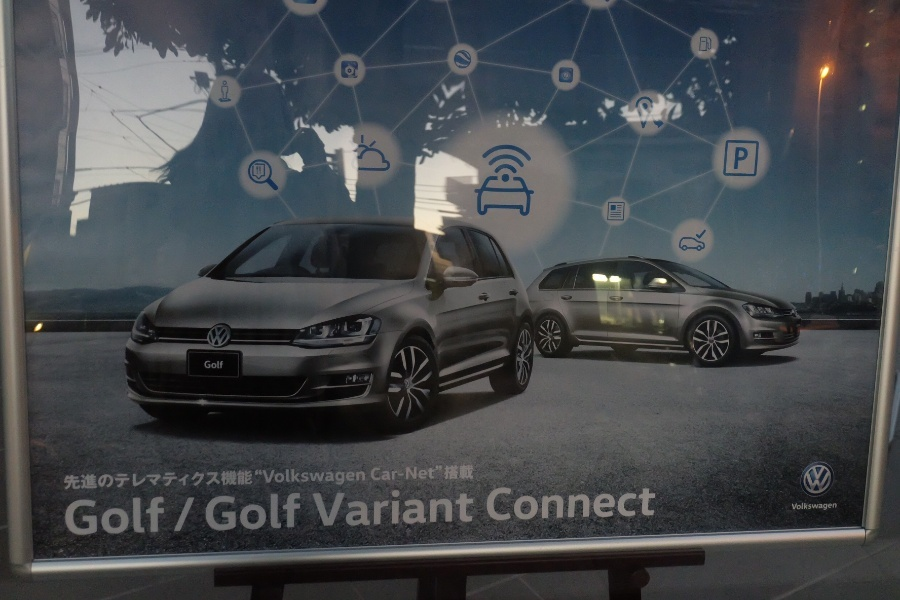text: (81, 493, 96, 537), (97, 493, 112, 537), (113, 493, 128, 537), (129, 493, 144, 537), (145, 493, 160, 537), (161, 493, 176, 537), (177, 493, 192, 537), (193, 493, 208, 537), (209, 493, 224, 537), (225, 493, 240, 537), (241, 493, 256, 537), (257, 493, 272, 537), (273, 493, 288, 537), (66, 493, 80, 537), (321, 488, 336, 528), (337, 488, 352, 528), (353, 488, 368, 528), (369, 488, 384, 528), (385, 488, 400, 528), (401, 488, 416, 528), (417, 488, 432, 528), (433, 488, 448, 528), (449, 488, 464, 528), (641, 487, 657, 522), (289, 493, 301, 537), (497, 487, 512, 522), (513, 487, 528, 522), (529, 487, 544, 522), (545, 487, 560, 522), (561, 487, 576, 522), (577, 487, 592, 522), (593, 487, 608, 522), (609, 487, 624, 522), (625, 487, 640, 522), (465, 488, 474, 528), (312, 488, 320, 528), (65, 471, 80, 492), (81, 471, 96, 492), (97, 471, 112, 492), (113, 471, 128, 492), (129, 471, 144, 492), (145, 471, 160, 492), (161, 471, 176, 492), (177, 471, 192, 492), (193, 471, 208, 492), (209, 471, 224, 492), (225, 471, 240, 492), (488, 487, 496, 522), (257, 469, 272, 487), (273, 469, 288, 487), (289, 469, 304, 487), (305, 469, 320, 487), (321, 469, 336, 487), (337, 469, 352, 487), (737, 147, 748, 171), (241, 471, 253, 492), (385, 466, 400, 482), (401, 466, 416, 482), (417, 466, 432, 482), (449, 466, 464, 482), (370, 466, 384, 482), (353, 469, 365, 487), (433, 466, 442, 482), (465, 466, 474, 482), (801, 502, 816, 511), (817, 502, 832, 511), (209, 361, 223, 369), (792, 502, 800, 511), (444, 466, 448, 482), (833, 502, 837, 511), (205, 361, 208, 369), (735, 147, 736, 171), (255, 469, 256, 487)
